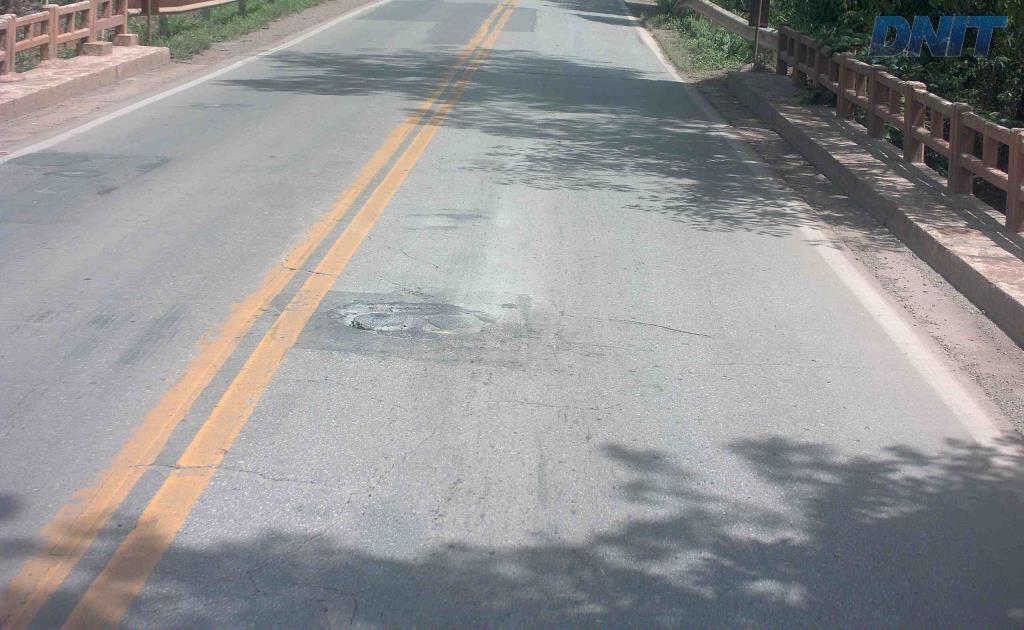pothole: (321, 298, 416, 334), (419, 318, 453, 336)
